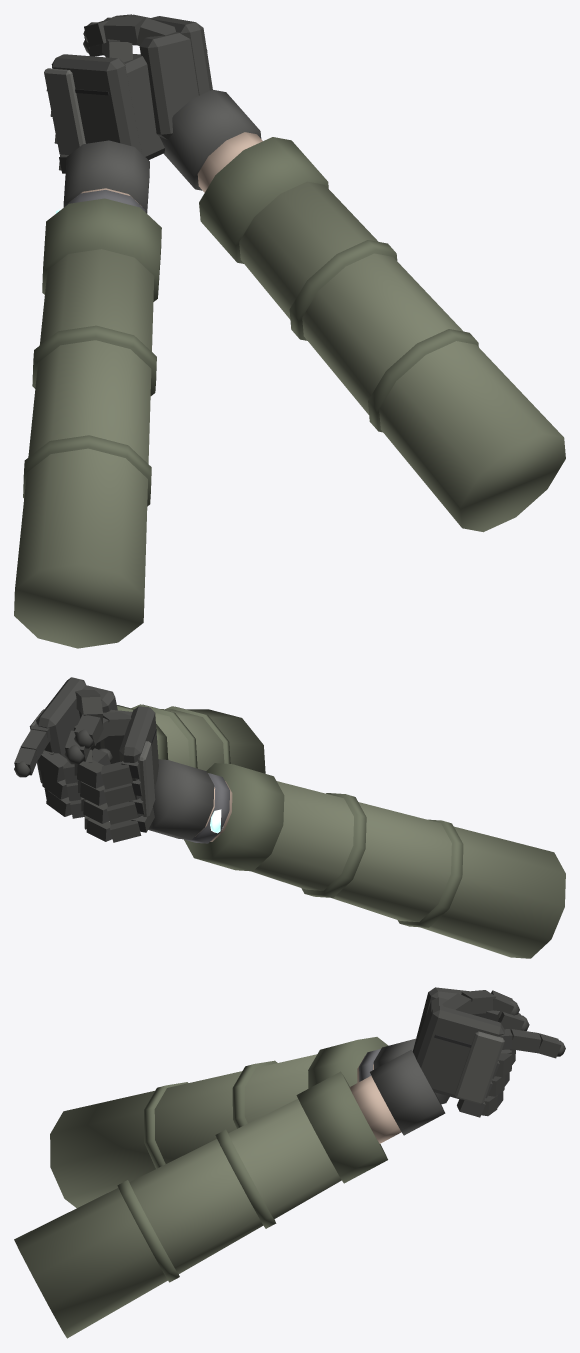
Rendered from hands_pistol.glb.
3 renders of one model, top to bottom at view 1: azimuth 30°, elevation 25°; view 2: azimuth 150°, elevation 25°; view 3: azimuth 270°, elevation 25°, orthographic. The views are drawn at different scales.
Visible parts, largest first — view 1: Hands_pistol, HandL; view 2: HandL, Hands_pistol; view 3: Hands_pistol, HandL.
Part boxes in pixels (box(x1,y1,x2,y2)): Hands_pistol: box(83, 14, 565, 532); HandL: box(14, 37, 164, 648); HandL: box(64, 706, 565, 958); Hands_pistol: box(14, 677, 265, 818); Hands_pistol: box(14, 990, 565, 1338); HandL: box(50, 987, 529, 1207).
Bounding box in the file's own units: 0.4887 × 0.3632 × 0.5488.
